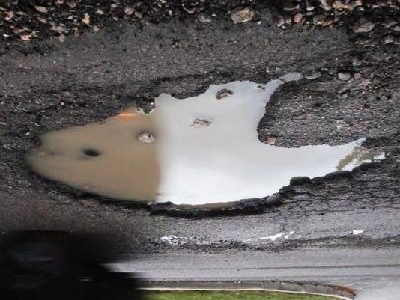pothole: (16, 67, 393, 224)
